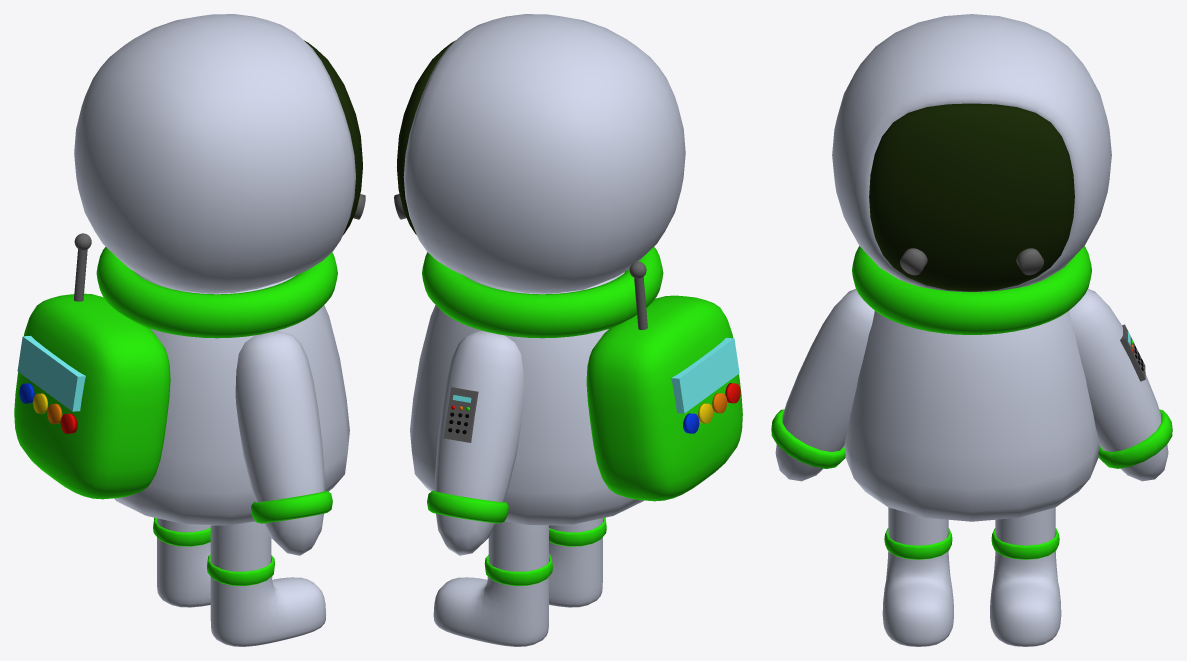
Rendered from spac soldaatje zoder licht en camera FBX .fbx.
3 views of the same model, side by side, from view 1: azimuth 30°, elevation 25°; view 2: azimuth 150°, elevation 25°; view 3: azimuth 270°, elevation 25° (orthographic).
Visible parts, largest first — view 1: Cube, Cube.007, Cube.002, Cube.005, Cube.003, Torus.001, Cube.008, Cube.004, Cube.006, Cube.001, Cylinder; view 2: Cube, Cube.007, Cube.002, Cube.003, Cube.005, Torus.001, Cube.008, Cube.004, Cube.006, Cube.001, Cube.009, Cylinder; view 3: Cube.002, Cube.001, Cube, Cube.005, Cube.003, Torus.001, Cube.006, Cube.004, Cylinder.005.
Part boxes in pixels (x1,y1,x2,y2): Cube: [74, 14, 355, 293]; Cube.007: [14, 293, 170, 499]; Cube.002: [114, 272, 349, 525]; Cube.005: [235, 331, 324, 555]; Cube.003: [157, 518, 325, 646]; Torus.001: [96, 247, 337, 338]; Cube.008: [17, 335, 85, 411]; Cube.004: [153, 517, 274, 585]; Cube.006: [251, 490, 332, 523]; Cube.001: [304, 40, 362, 234]; Cylinder: [74, 249, 87, 301]; Cube: [403, 14, 685, 293]; Cube.007: [586, 295, 742, 501]; Cube.002: [410, 272, 643, 525]; Cube.003: [433, 518, 602, 646]; Cube.005: [435, 331, 524, 555]; Torus.001: [422, 247, 663, 338]; Cube.008: [671, 337, 739, 413]; Cube.004: [484, 517, 606, 585]; Cube.006: [427, 490, 508, 523]; Cube.001: [397, 40, 455, 234]; Cube.009: [443, 387, 478, 442]; Cylinder: [634, 277, 647, 329]; Cube.002: [844, 311, 1099, 521]; Cube.001: [869, 103, 1074, 291]; Cube: [832, 14, 1111, 291]; Cube.005: [775, 288, 1168, 481]; Cube.003: [882, 507, 1061, 646]; Torus.001: [852, 246, 1091, 334]; Cube.006: [771, 409, 1172, 468]; Cube.004: [884, 528, 1059, 559]; Cylinder.005: [900, 248, 1043, 275].
Bounding box in the file's own units: 58.88 × 112 × 69.85.
